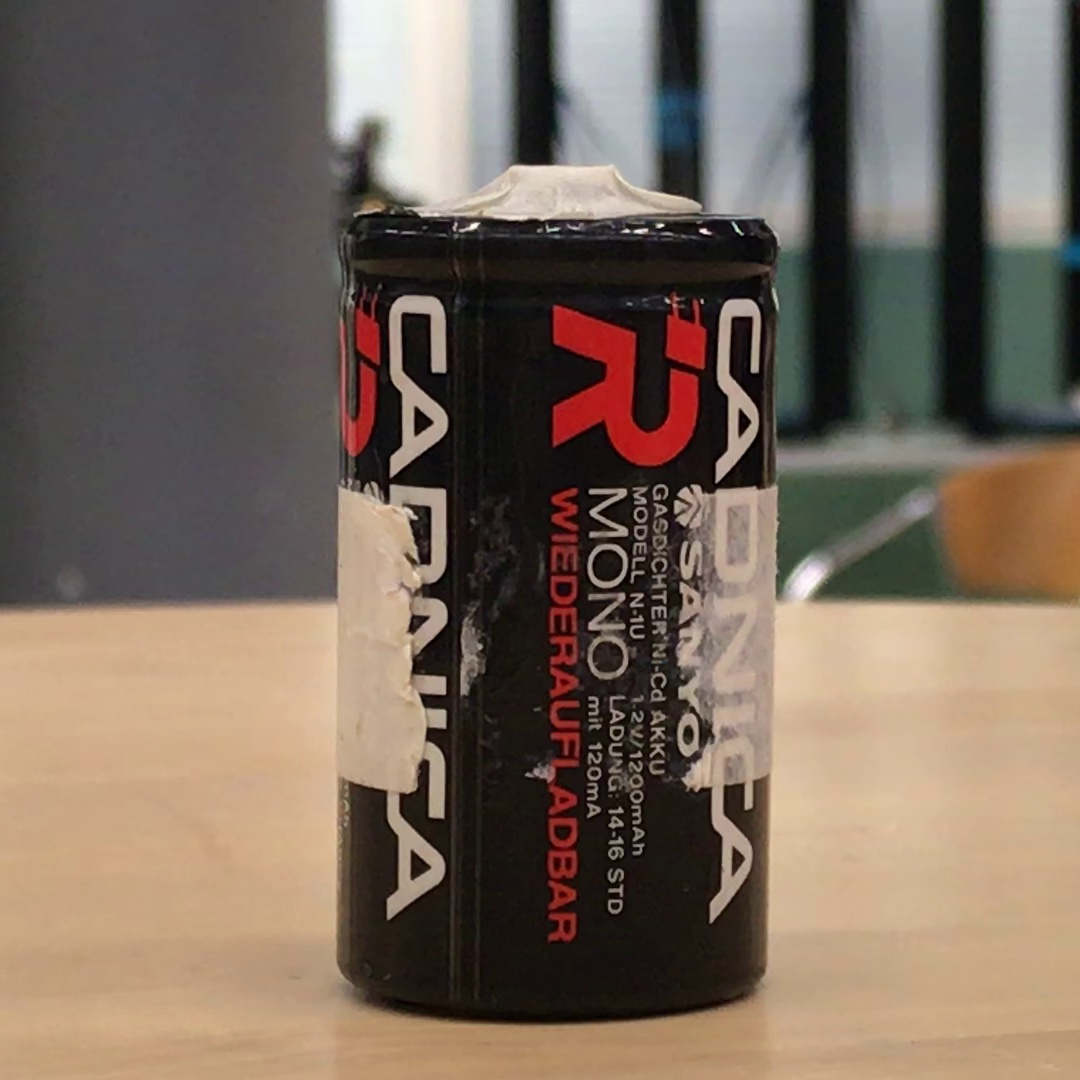keyword: (648, 628, 675, 710)
